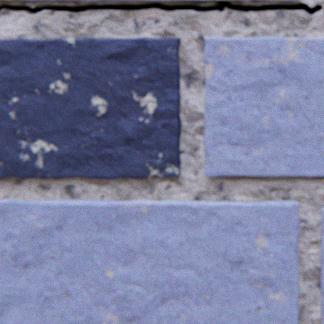brick: (0, 198, 299, 323), (0, 37, 182, 178), (204, 36, 323, 176), (321, 207, 323, 323), (8, 0, 217, 1), (230, 0, 254, 1), (276, 0, 298, 1)
crack: (0, 0, 323, 15)
